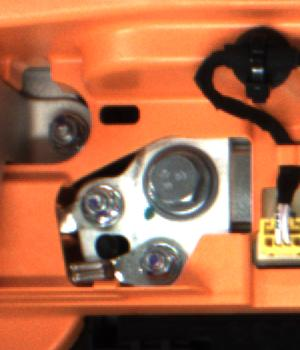nut_b: (138, 136, 227, 230)
screw_s: (74, 187, 120, 226), (136, 241, 177, 284), (43, 114, 85, 149)
